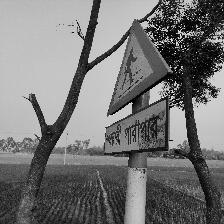Pedestrian-crossing: (103, 20, 173, 157)
